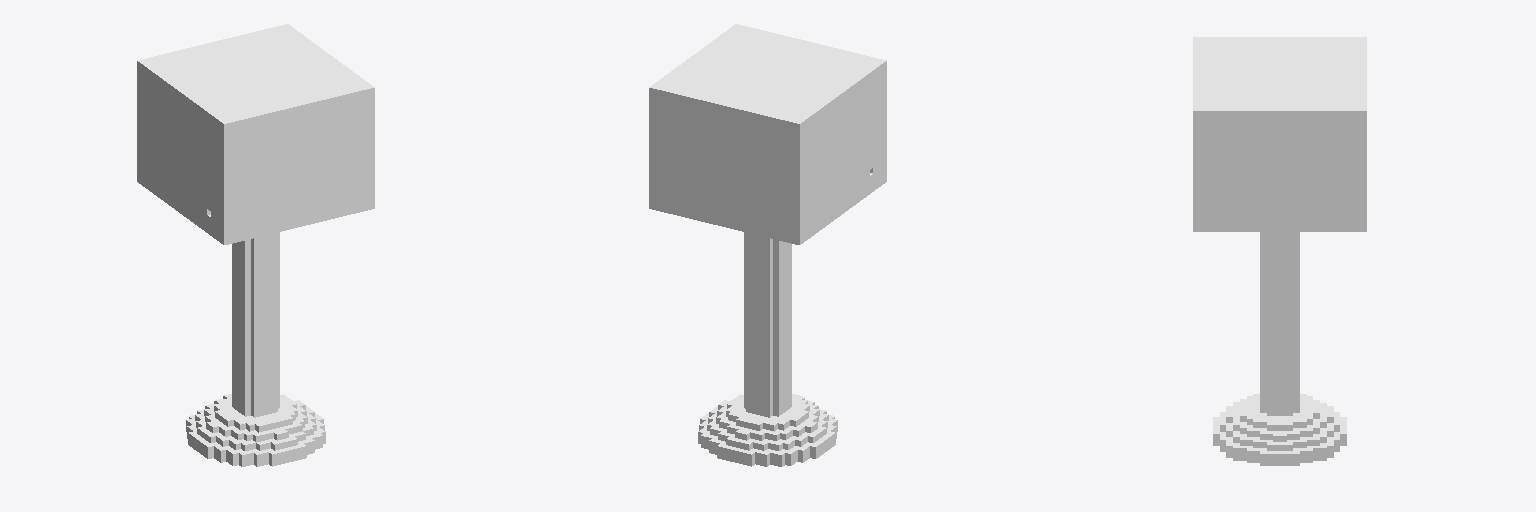
The model's file is Lamp.obj.
3 renders of one model, left to right at view 1: azimuth 30°, elevation 25°; view 2: azimuth 150°, elevation 25°; view 3: azimuth 270°, elevation 25°, orthographic.
Size of the model in its own units: 26 by 60 by 26.